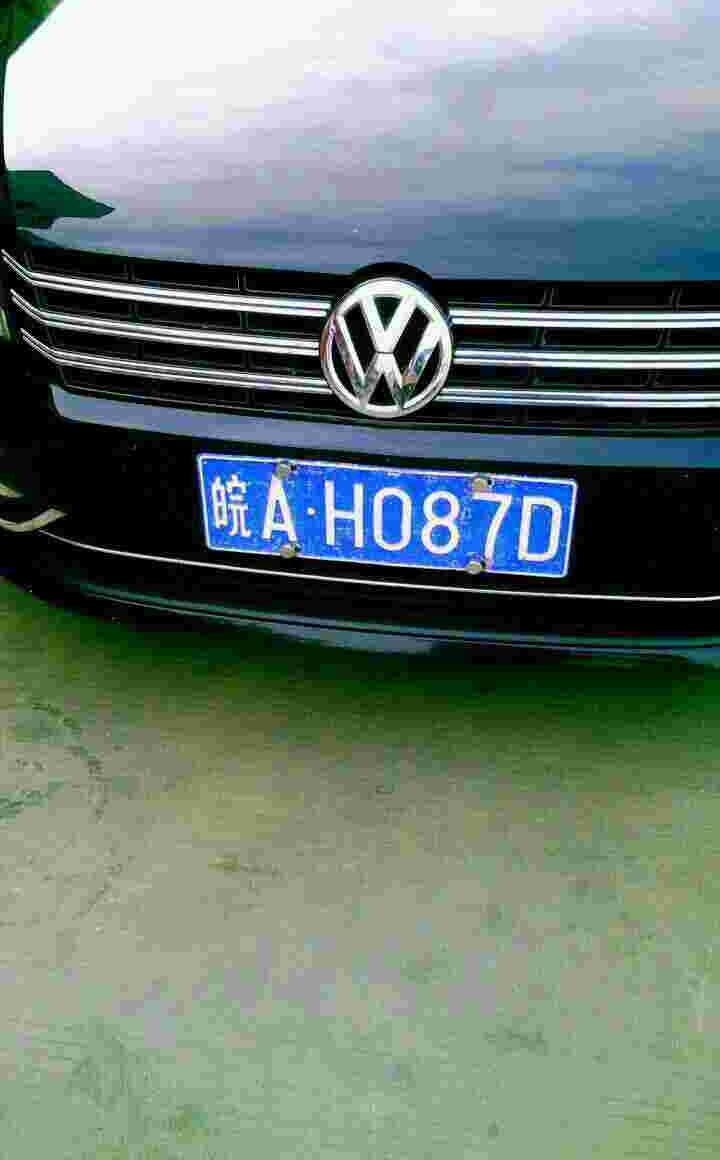license_plate: (197, 460, 589, 570)
